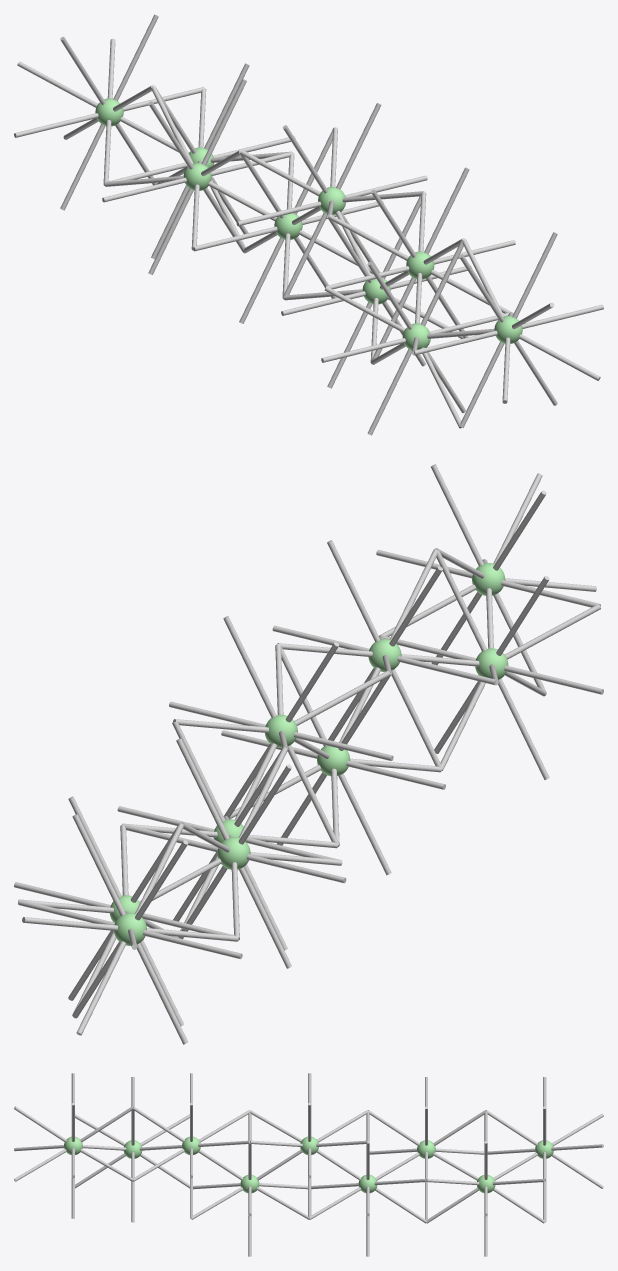
The model's file is structure_mpstyle.glb.
3 views of the same model, one above another, from view 1: azimuth 30°, elevation 25°; view 2: azimuth 150°, elevation 25°; view 3: azimuth 270°, elevation 25° (orthographic). The views are drawn at different scales.
Visible parts, largest first — view 1: world; view 2: world; view 3: world.
Part boxes in pixels (bbox=[...]): world: bbox=[14, 14, 603, 435]; world: bbox=[14, 464, 603, 1044]; world: bbox=[14, 1073, 603, 1256].
Bounding box in the file's own units: 7.7 × 7.18 × 24.92.
